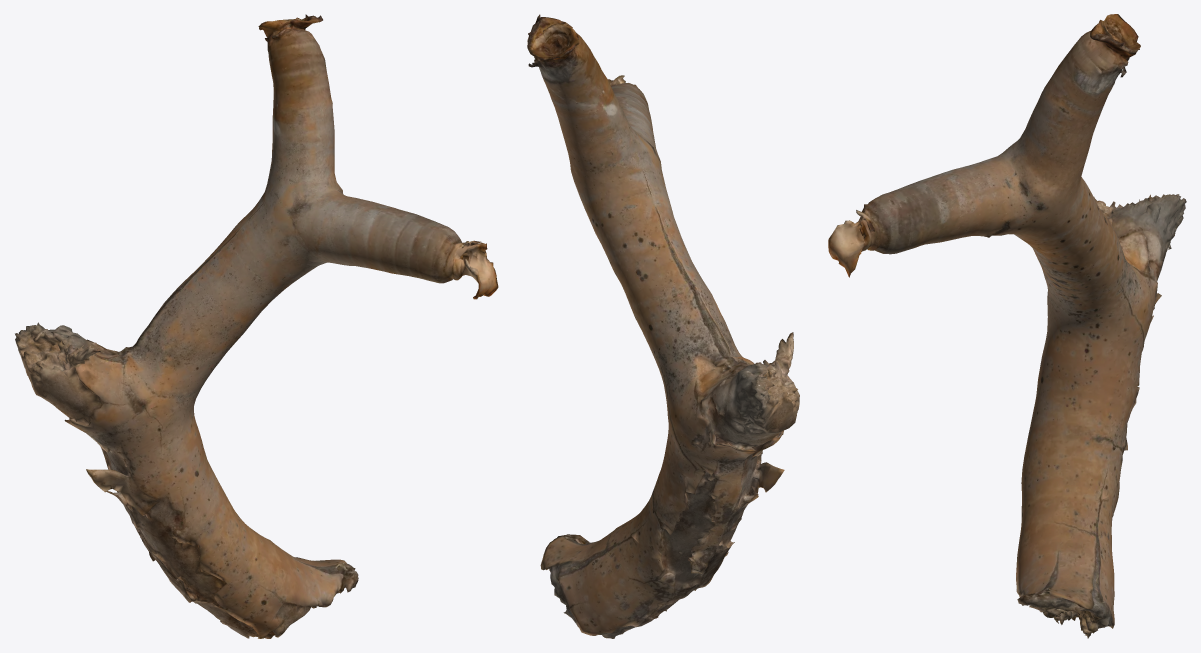
The model's file is polyhaven-dead-quiver-branch-01.glb.
3 views of the same model, side by side, from view 1: azimuth 30°, elevation 25°; view 2: azimuth 150°, elevation 25°; view 3: azimuth 270°, elevation 25° (orthographic). The views are drawn at different scales.
Visible parts, largest first — view 1: dead_quiver_branch_01_0; view 2: dead_quiver_branch_01_0; view 3: dead_quiver_branch_01_0.
Part boxes in pixels (x1,y1,x2,y2): dead_quiver_branch_01_0: [15, 14, 498, 638]; dead_quiver_branch_01_0: [527, 14, 799, 638]; dead_quiver_branch_01_0: [828, 14, 1186, 638].
Bounding box in the file's own units: 0.2549 × 0.4387 × 0.227.
Materials: 1 (1 with a texture image).
